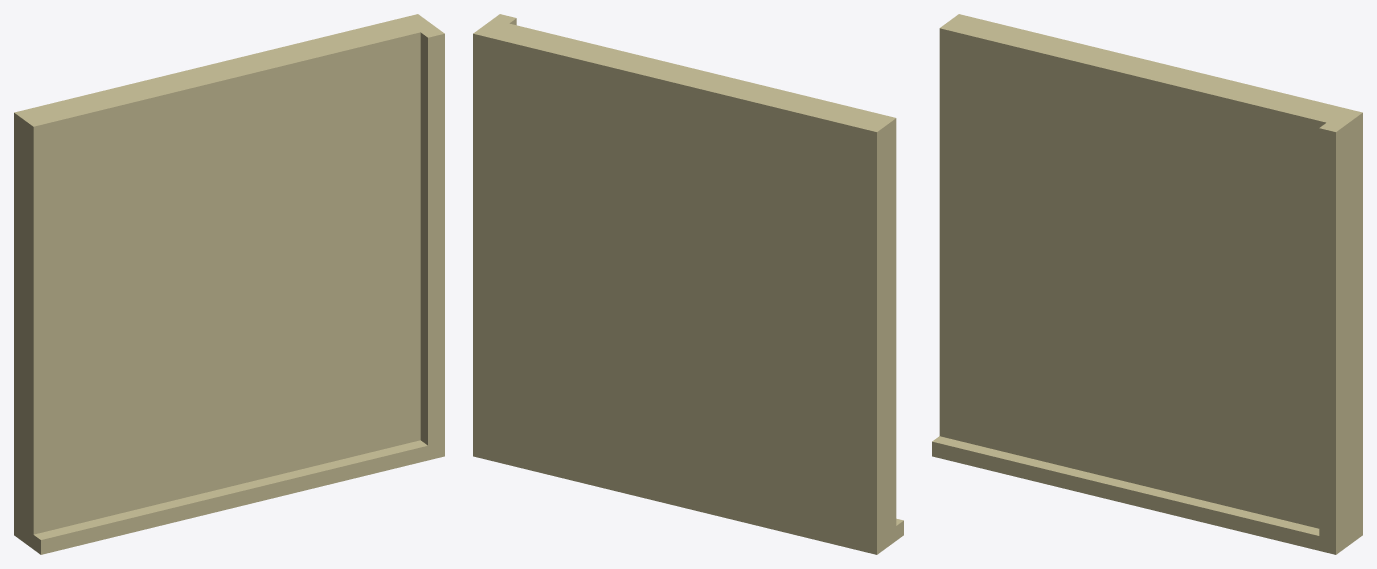
File: CornerWall.fbx
3 views of the same model, side by side, from view 1: azimuth 30°, elevation 25°; view 2: azimuth 150°, elevation 25°; view 3: azimuth 330°, elevation 25° (orthographic).
Visible parts, largest first — view 1: Corner; view 2: Corner; view 3: Corner.
Boxes of the visible parts, x1,y1,x2,y2 form: Corner: (14,14,444,554); Corner: (473,14,903,554); Corner: (932,14,1362,554).
Size of the model in its own units: 600 by 600 by 69.16.
